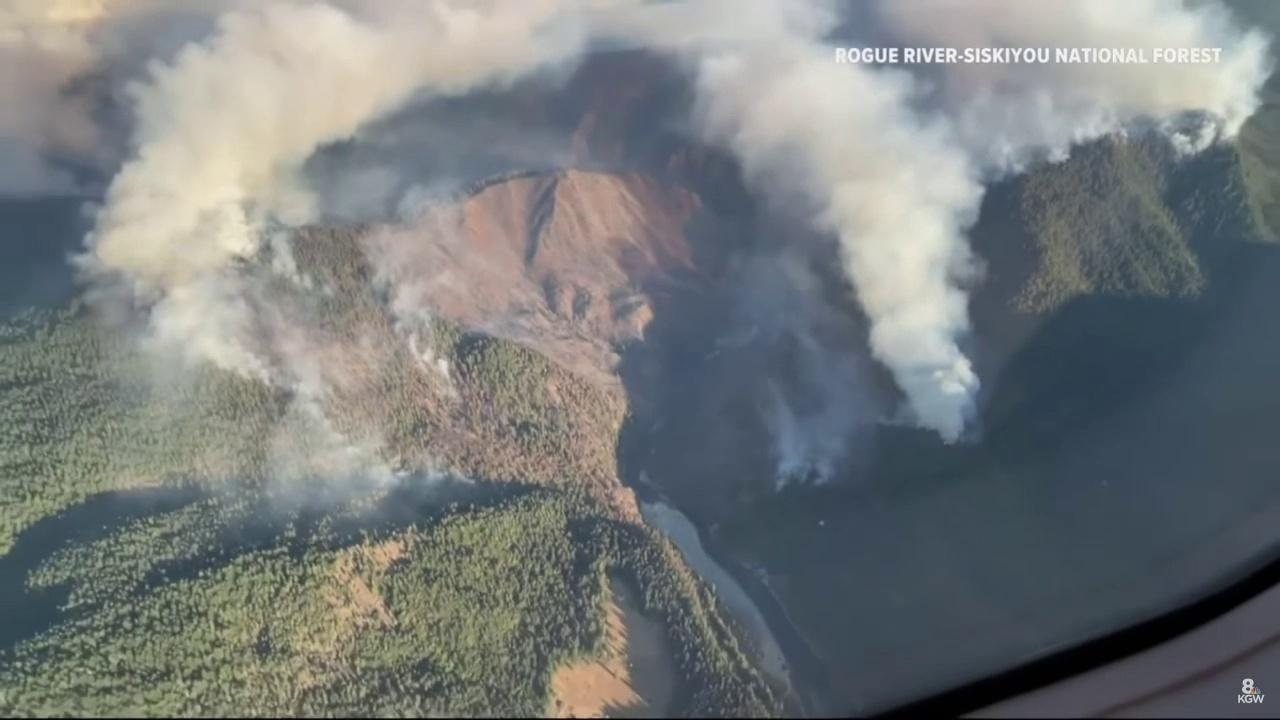smoke: (0, 0, 1280, 536)
